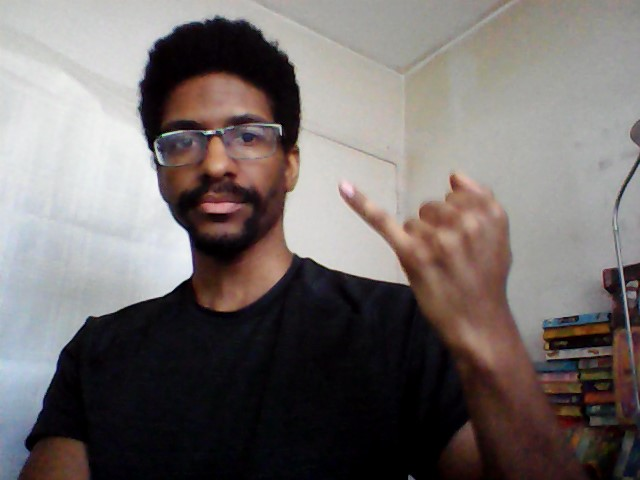j: (336, 168, 520, 311)
